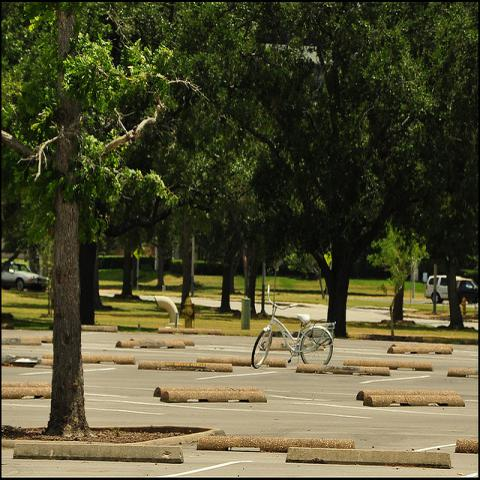car: (1, 260, 50, 292), (426, 274, 449, 303), (456, 276, 478, 304)
